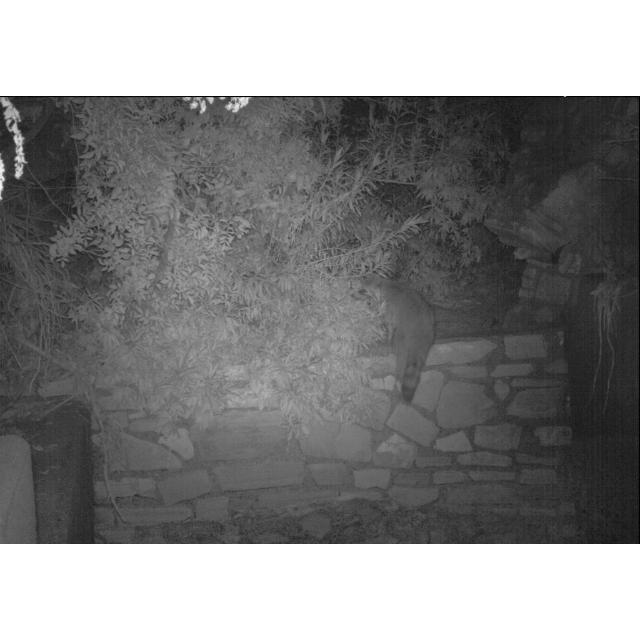animals: (354, 276, 438, 406)
